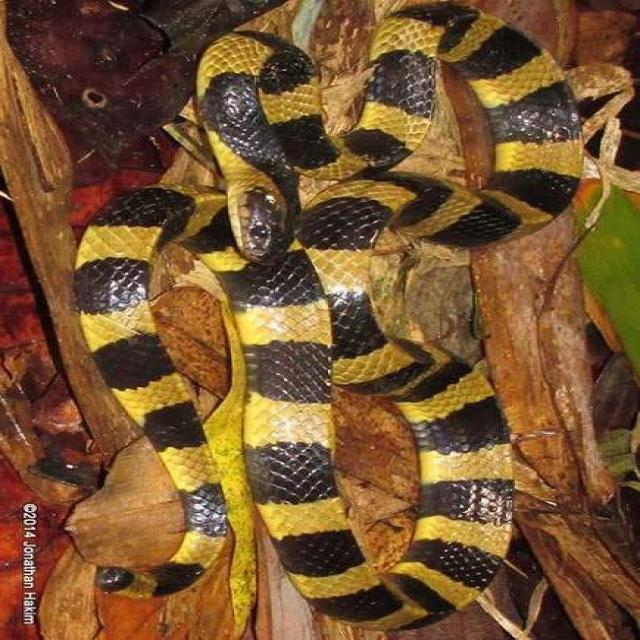Venomous: (201, 101, 322, 257)
